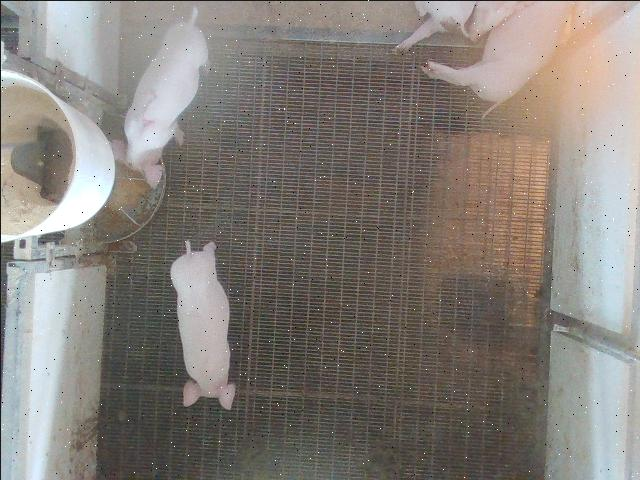pig-5: (111, 7, 208, 186)
